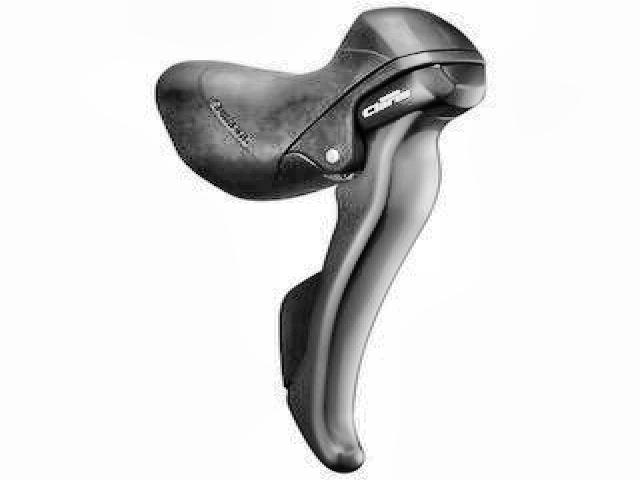sti_shifter: (151, 6, 488, 471)
